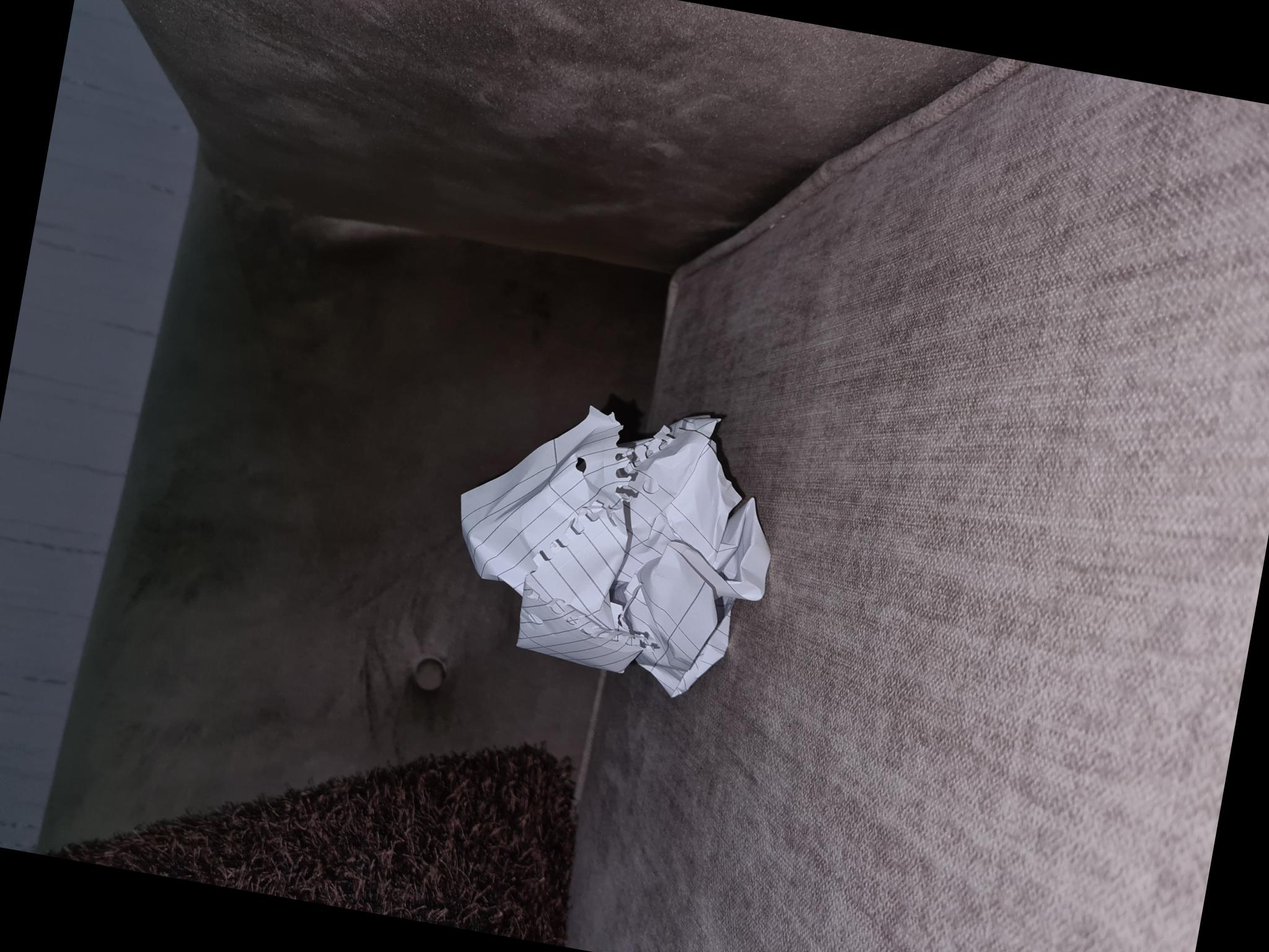Kertas: (230, 431, 518, 740)
